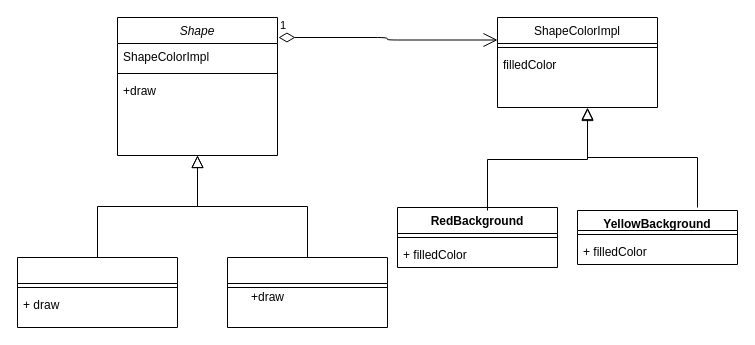
The diagram is 755 pixels wide and 345 high, and some of its shapes have lost their labels. Each missing label, with the box of its shape:
Rectangle: (16, 256, 178, 328)
Triangle: (226, 256, 388, 328)
